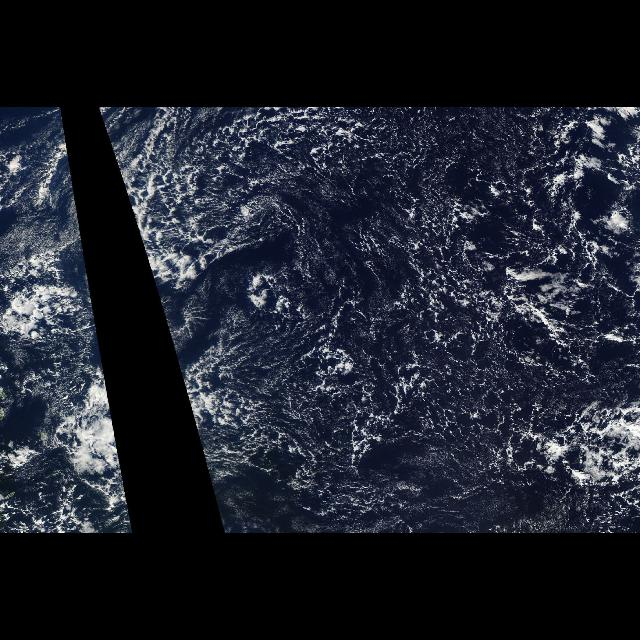Gravel: (102, 108, 640, 516), (102, 352, 125, 486)
